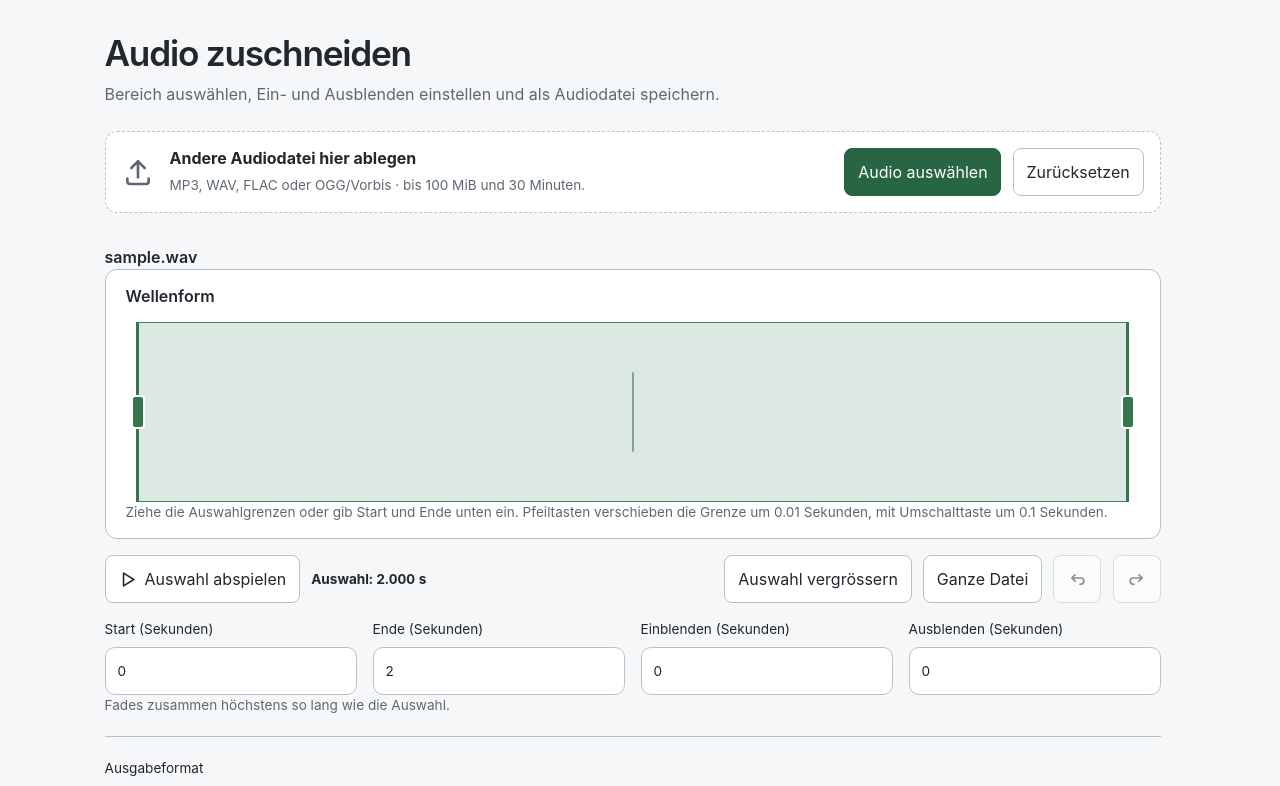
it: StrictMode initial request completes once and editing supports undo
Expected: the text "sample.wav" is shown, [104,247,197,267]
Replace the text in the number field labelled "Start (Sekunden)" with "0.4" at [230, 671], box [104,647,356,695]
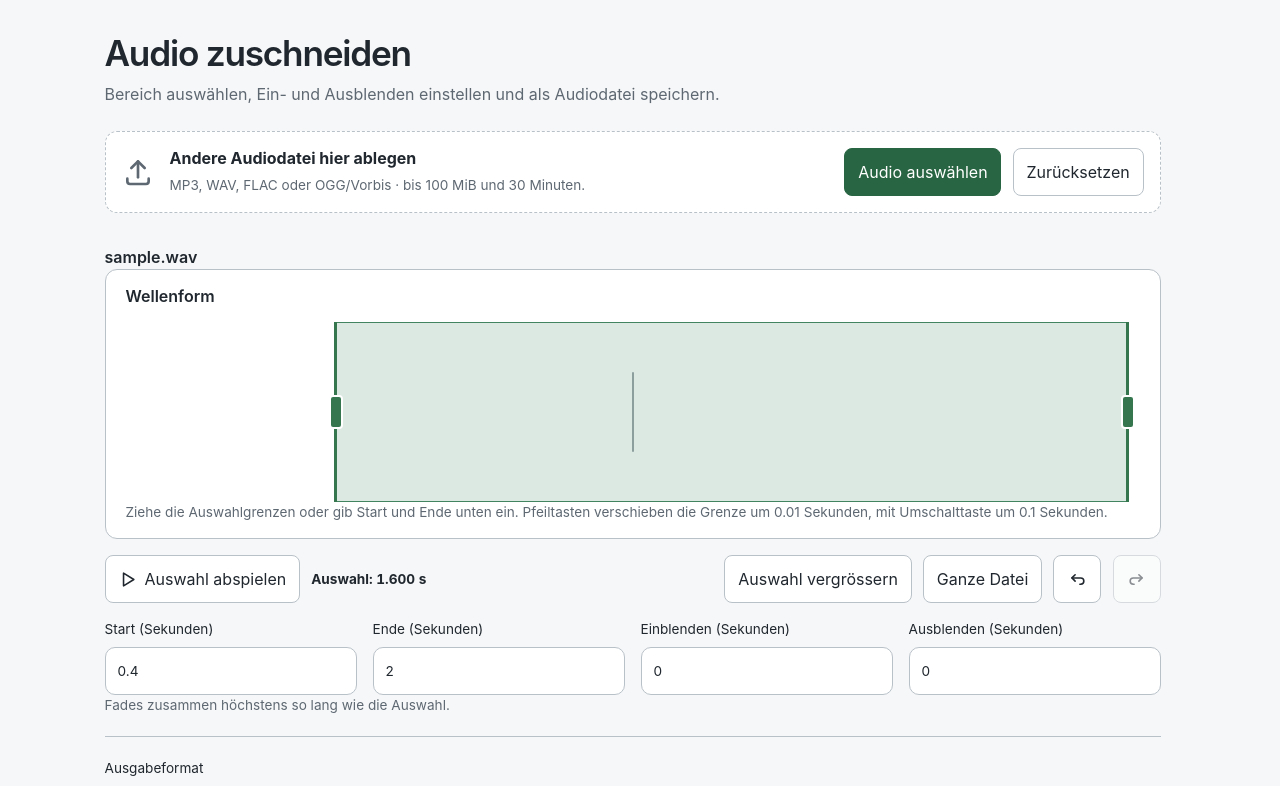
Click the button named "Rückgängig" at [1077, 579], box [1053,555,1101,603]
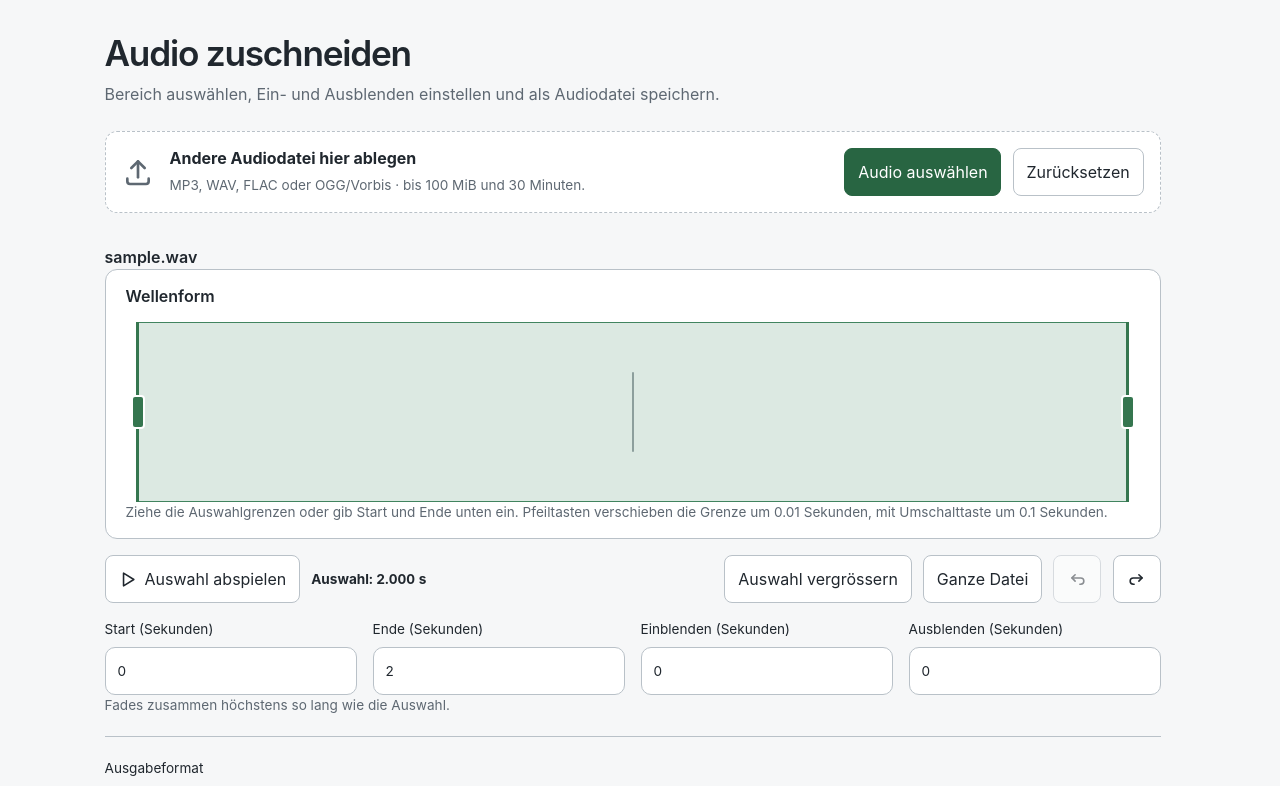
Expected: the number field labelled "Start (Sekunden)" holds "0", [104,647,356,695]
